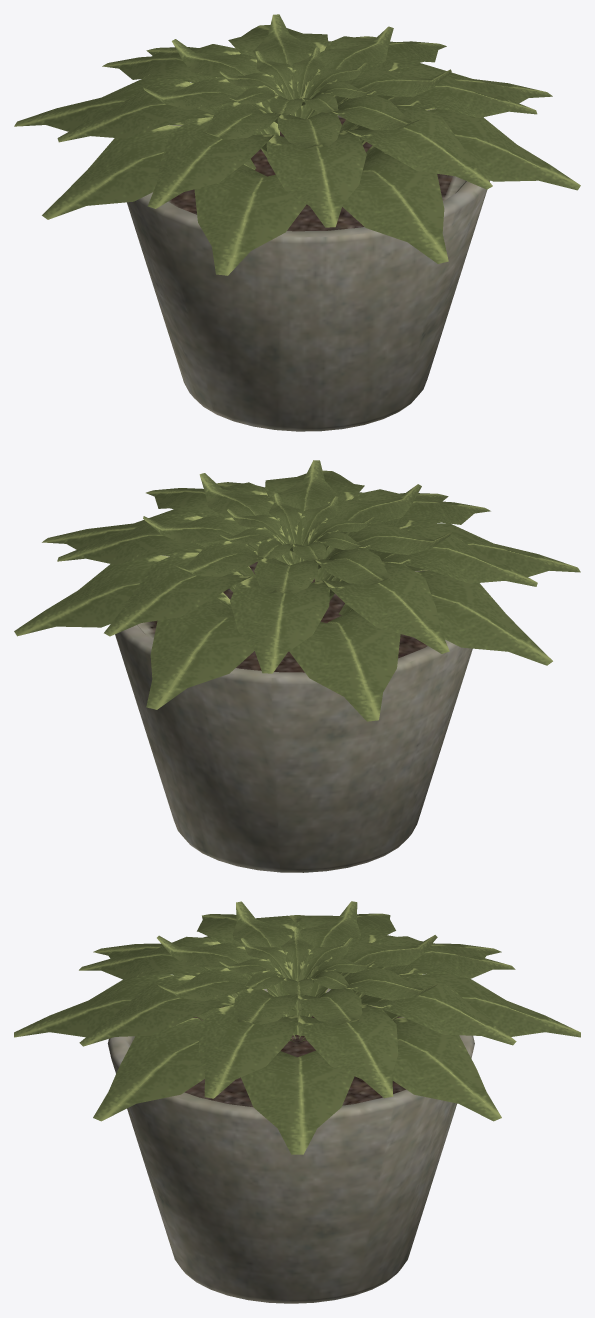
File: mdl_Blumentopf.fbx
3 renders of one model, top to bottom at view 1: azimuth 30°, elevation 25°; view 2: azimuth 150°, elevation 25°; view 3: azimuth 270°, elevation 25°, orthographic. The views are drawn at different scales.
Visible parts, largest first — view 1: Blumentopf.001; view 2: Blumentopf.001; view 3: Blumentopf.001.
Part boxes in pixels (x1=…): Blumentopf.001: x1=14, y1=14, x2=580, y2=431; Blumentopf.001: x1=14, y1=460, x2=580, y2=872; Blumentopf.001: x1=14, y1=901, x2=580, y2=1303.
Size of the model in its own units: 84.65 by 48.58 by 84.65.
